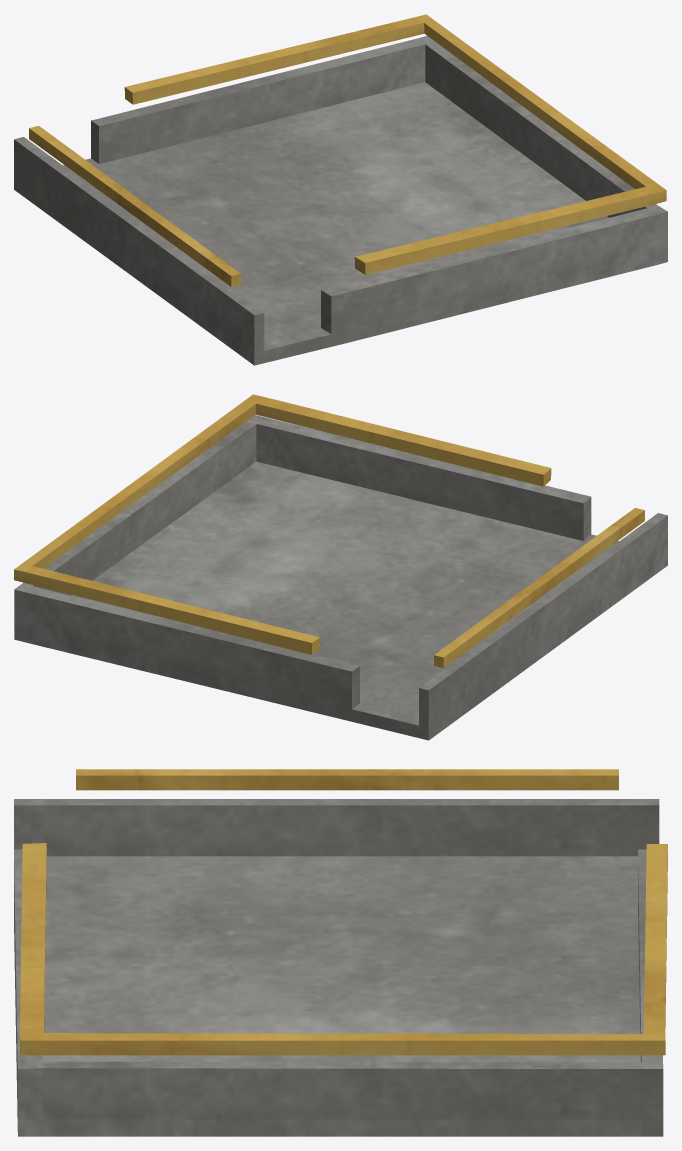
File: SmallMetalPillar4.fbx
3 views of the same model, one above another, from view 1: azimuth 30°, elevation 25°; view 2: azimuth 150°, elevation 25°; view 3: azimuth 270°, elevation 25° (orthographic). The views are drawn at different scales.
Visible parts, largest first — view 1: SmallMetalPillar4; view 2: SmallMetalPillar4; view 3: SmallMetalPillar4.
Boxes of the visible parts, bbox=[...] form: SmallMetalPillar4: bbox=[14, 14, 667, 365]; SmallMetalPillar4: bbox=[14, 394, 667, 740]; SmallMetalPillar4: bbox=[14, 769, 667, 1136].
Size of the model in its own units: 951 by 936 by 156.
